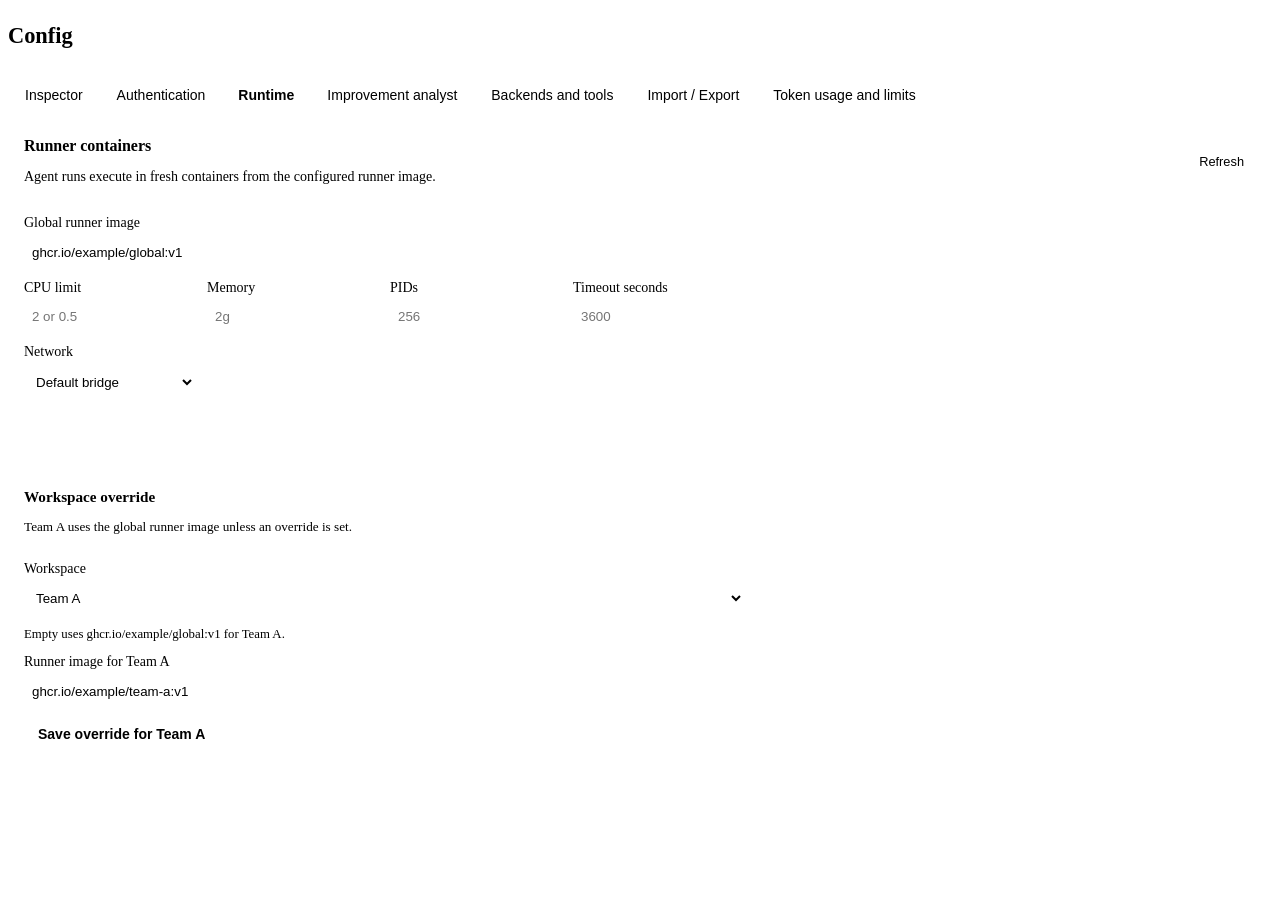
Test: <ConfigPage /> runtime workspace overrides › switches workspace override inputs and saves to the selected workspace endpoint
Expected: the field labelled "Runner image for Team A" holds "ghcr.io/example/team-a:v1", x1=24 y1=676 x2=744 y2=707
Select "Team B" in the dropdown labelled "Workspace" at point(384, 599), box x1=24 y1=582 x2=744 y2=615
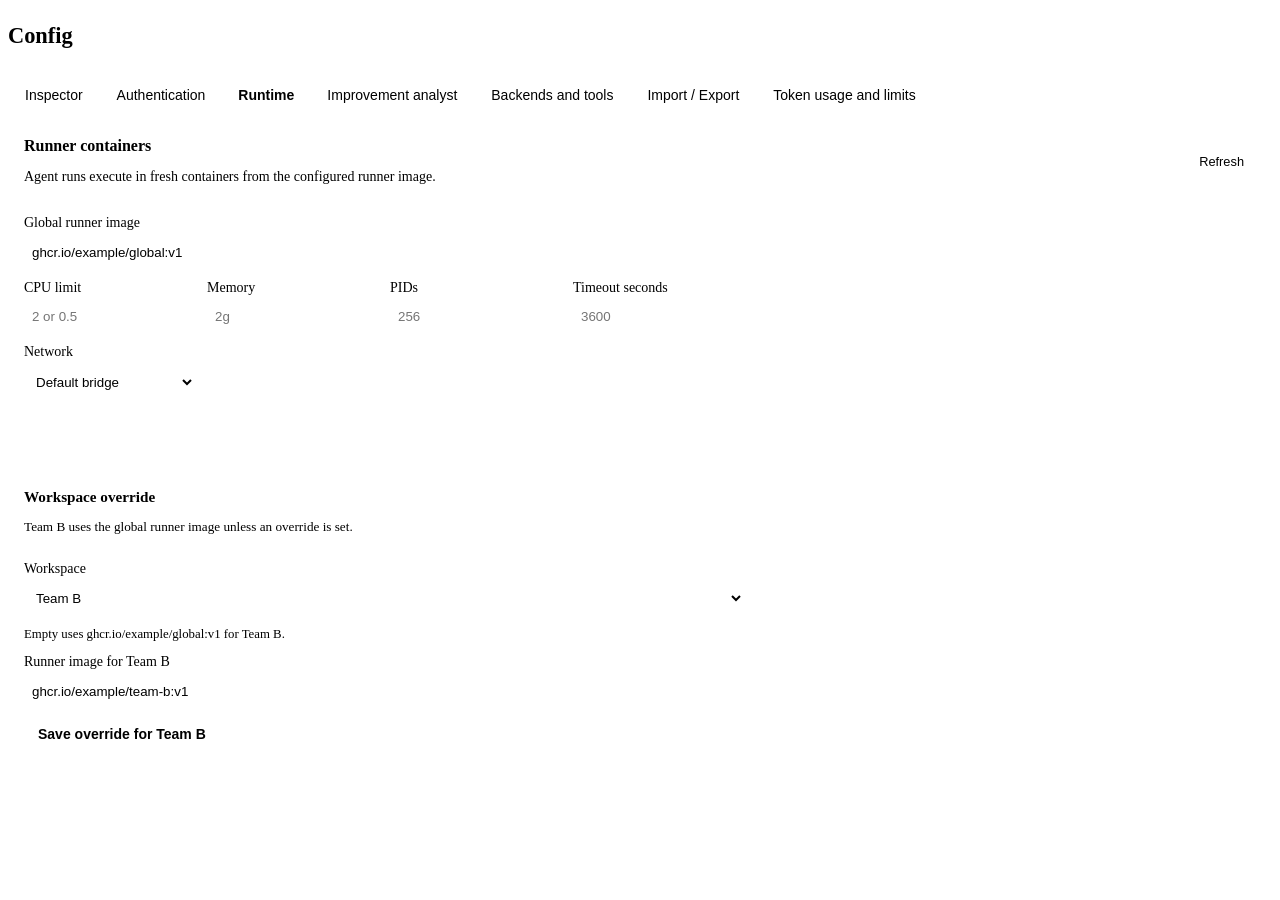
Result: the field labelled "Runner image for Team B" holds "ghcr.io/example/team-b:v1"
Replace the text in the field labelled "Runner image for Team B" with "ghcr.io/example/team-b:v2" at point(384, 691), box x1=24 y1=676 x2=744 y2=707
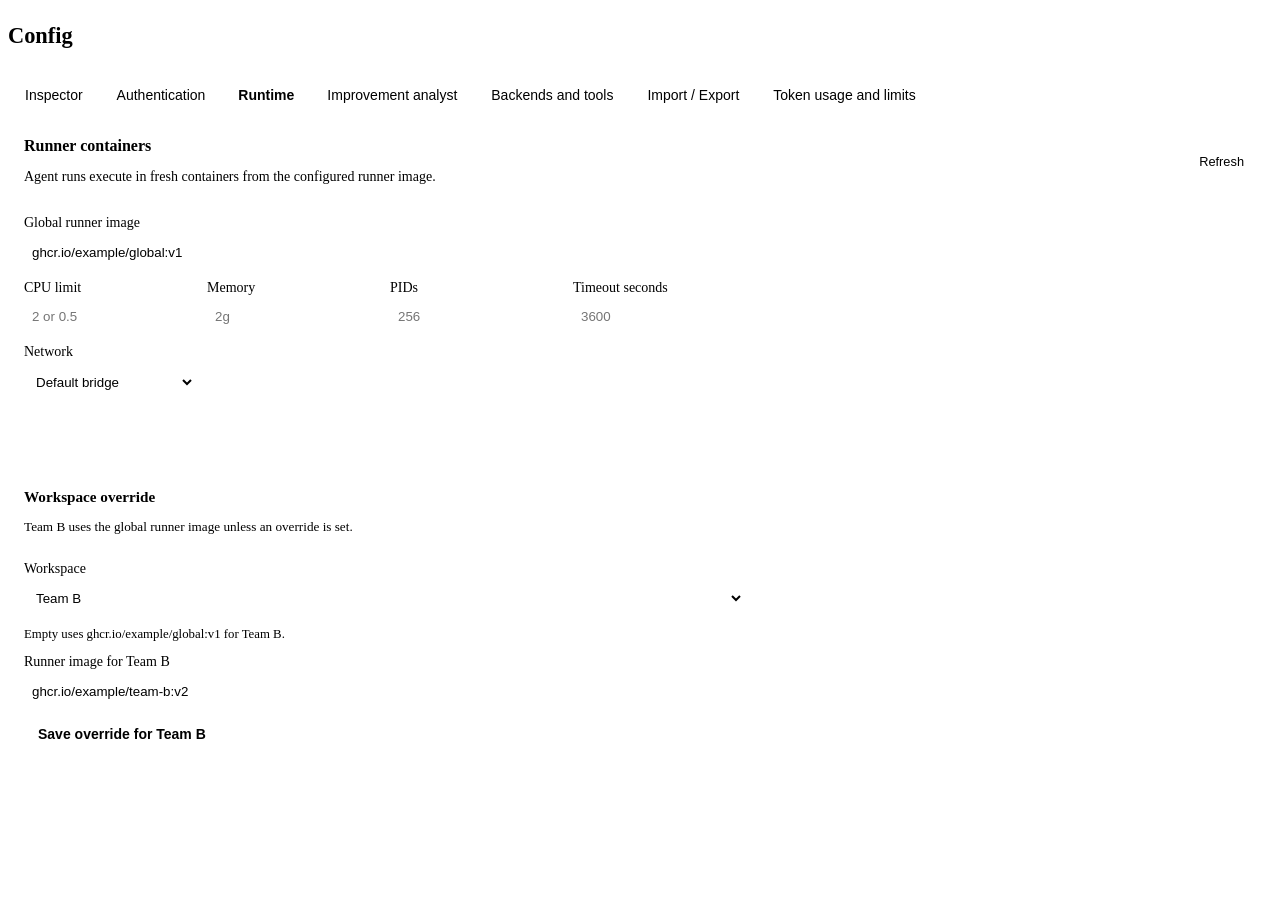
Click the button "Save override for Team B" at point(122, 734), box x1=24 y1=719 x2=220 y2=749
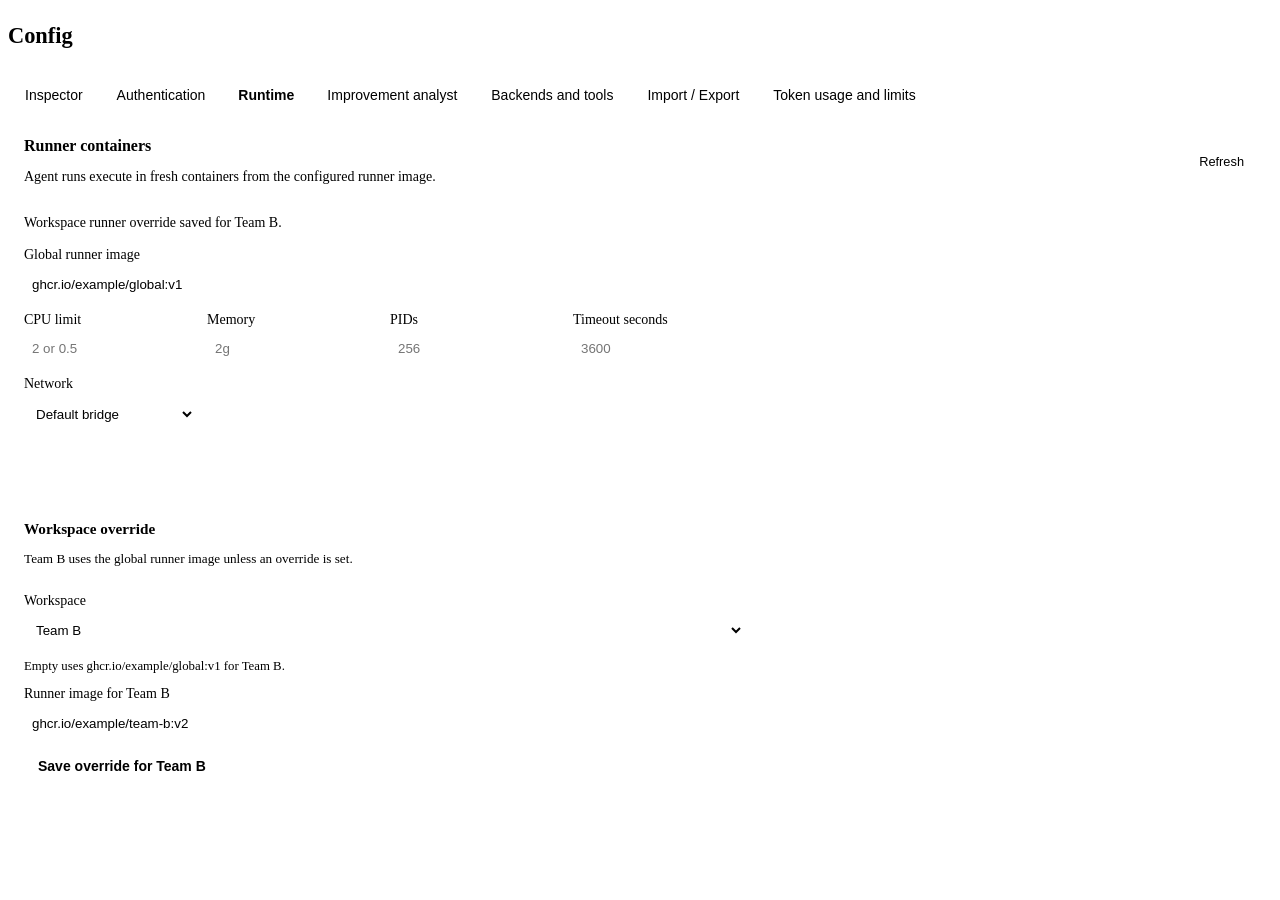
Result: the text "Workspace runner override saved for Team B." is shown at x1=24 y1=215 x2=282 y2=230
